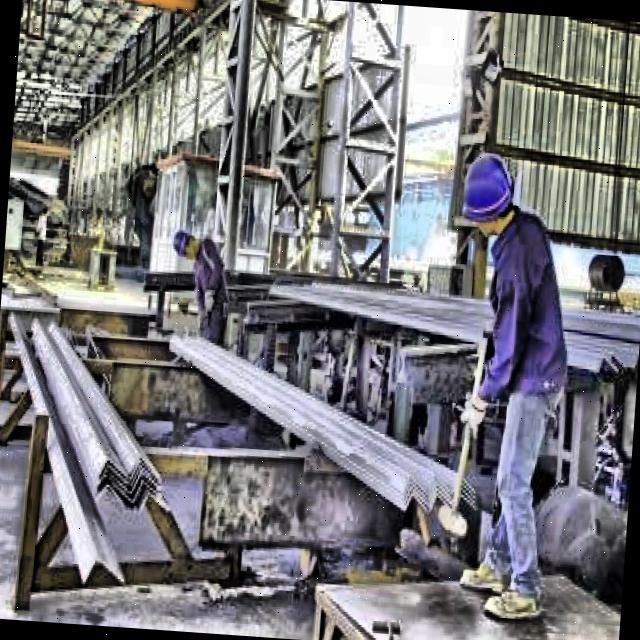helmet: (454, 144, 522, 239), (165, 222, 203, 267)
